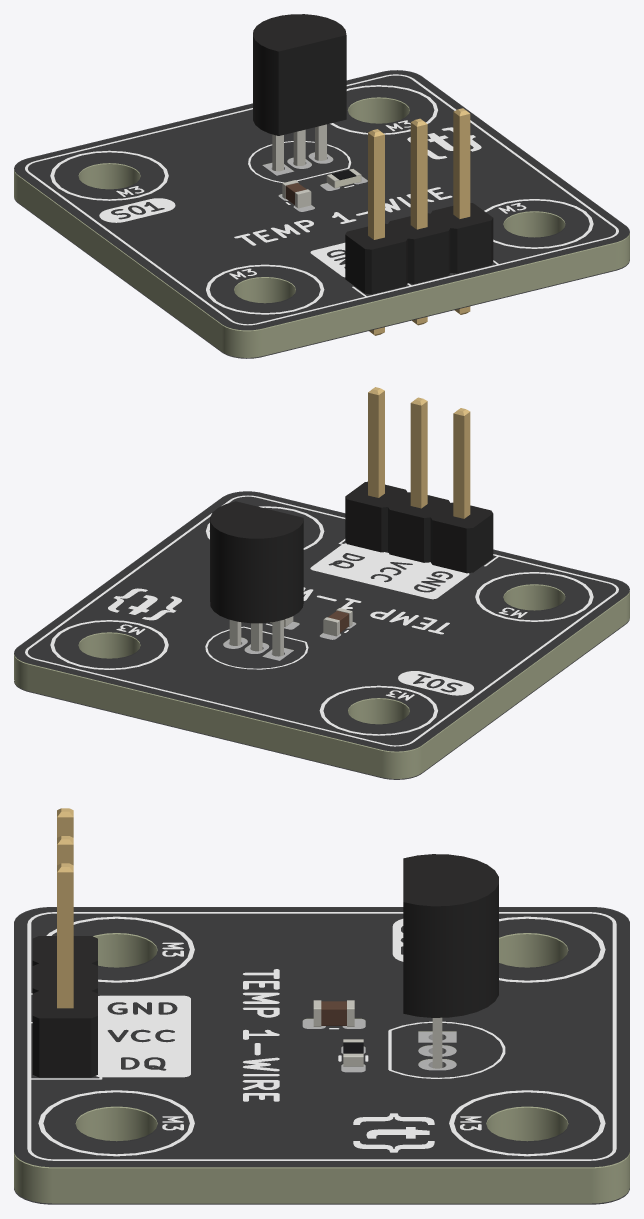
3 views of the same model, one above another, from view 1: azimuth 30°, elevation 25°; view 2: azimuth 150°, elevation 25°; view 3: azimuth 270°, elevation 25° (orthographic). The views are drawn at different scales.
Parts seen in each view (by area): view 1: =>[0:1:1:9], =>[0:1:1:11], J1, U1, =>[0:1:1:7], =>[0:1:1:10], =>[0:1:1:6], C1, R1; view 2: =>[0:1:1:9], =>[0:1:1:11], J1, =>[0:1:1:7], U1, =>[0:1:1:10], =>[0:1:1:6], C1; view 3: =>[0:1:1:9], =>[0:1:1:11], =>[0:1:1:7], U1, J1, =>[0:1:1:6], =>[0:1:1:10], C1, R1.
Boxes of the visible parts, left/top/right/bottom form: =>[0:1:1:9]: left=14, top=70, right=629, bottom=330; =>[0:1:1:11]: left=14, top=97, right=629, bottom=357; J1: left=345, top=108, right=493, bottom=335; U1: left=253, top=14, right=346, bottom=171; =>[0:1:1:7]: left=25, top=74, right=618, bottom=325; =>[0:1:1:10]: left=14, top=198, right=629, bottom=358; =>[0:1:1:6]: left=262, top=152, right=367, bottom=211; C1: left=282, top=180, right=311, bottom=208; R1: left=326, top=169, right=361, bottom=188; =>[0:1:1:9]: left=14, top=491, right=629, bottom=751; =>[0:1:1:11]: left=14, top=584, right=629, bottom=778; J1: left=345, top=387, right=493, bottom=573; =>[0:1:1:7]: left=25, top=495, right=618, bottom=746; U1: left=210, top=501, right=303, bottom=656; =>[0:1:1:10]: left=14, top=619, right=629, bottom=779; =>[0:1:1:6]: left=223, top=621, right=355, bottom=660; C1: left=323, top=608, right=352, bottom=636; =>[0:1:1:9]: left=14, top=907, right=629, bottom=1167; =>[0:1:1:11]: left=14, top=933, right=629, bottom=1203; =>[0:1:1:7]: left=27, top=912, right=616, bottom=1160; U1: left=403, top=854, right=498, bottom=1068; J1: left=32, top=808, right=97, bottom=1077; =>[0:1:1:6]: left=302, top=1019, right=456, bottom=1072; =>[0:1:1:10]: left=14, top=1188, right=629, bottom=1204; C1: left=313, top=1000, right=354, bottom=1026; R1: left=343, top=1039, right=363, bottom=1066.
Size of the model in its own units: 0.024 by 0.0115 by 0.024.
